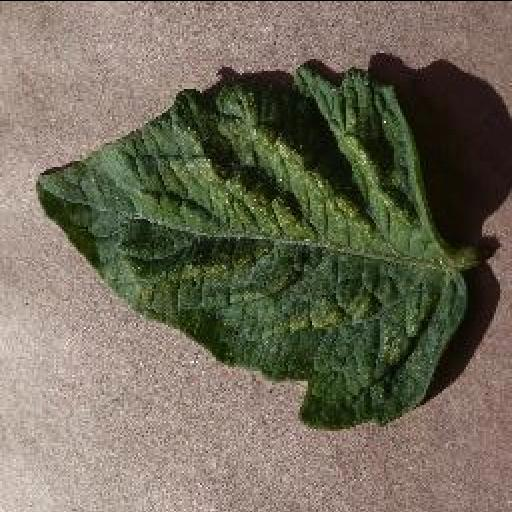disease_tomato: (36, 64, 466, 428)
